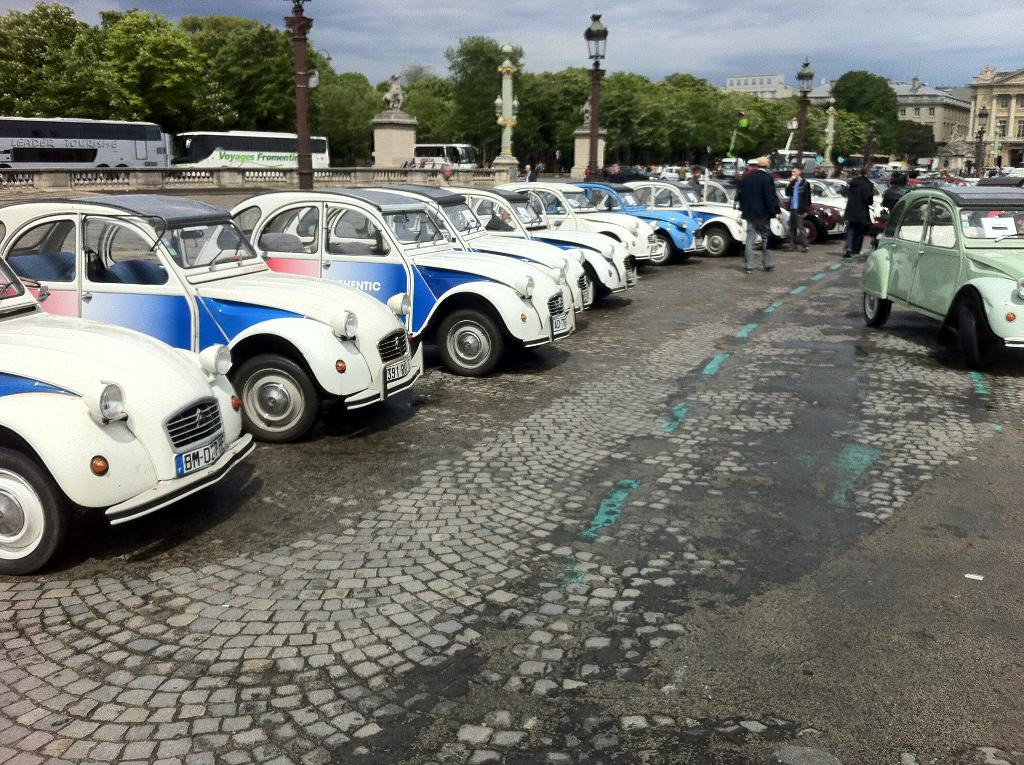Car: (0, 154, 1022, 580)
